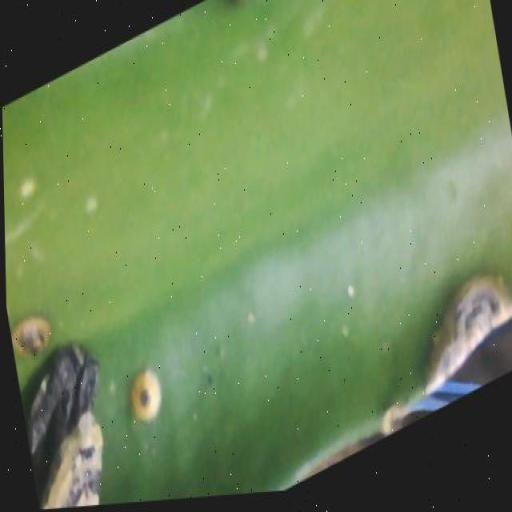stemcanker: (342, 277, 360, 302)
